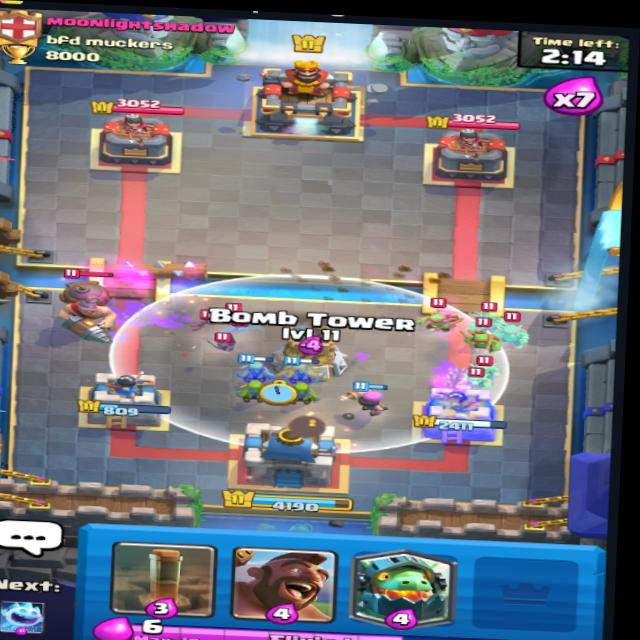bats: (206, 330, 244, 355)
mighty-miner: (48, 266, 134, 345)
spear-goblin: (411, 300, 452, 331), (467, 325, 496, 354)
